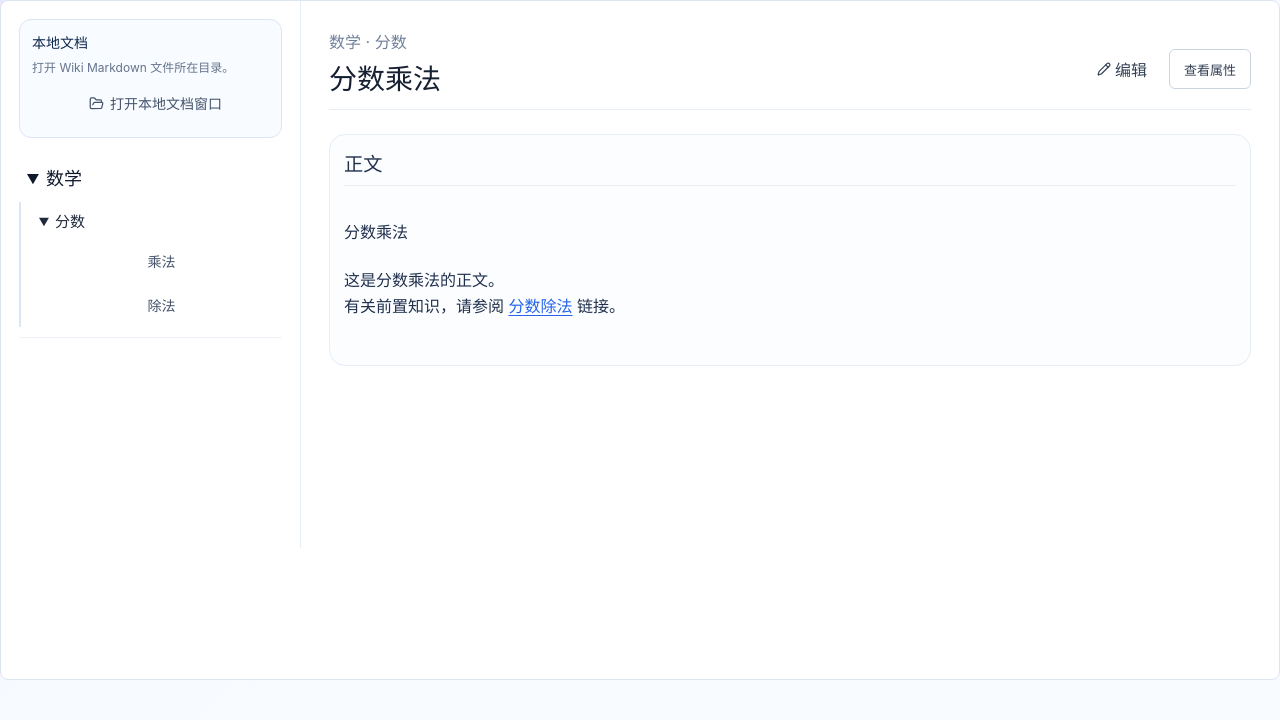
shows markdown content and toggles property drawer
Expected: the 1st heading "分数乘法" is shown, [329,57,441,97]
Expected: the text "这是分数乘法的正文。有关前置知识，请参阅 分数除法 链接。" is shown, [344,270,625,316]
Toggle drawer button should exist
What coordinates should you click on to do the following:
click the button "查看属性"
I would click on:
 (1210, 69)
Its box is [1169,49,1251,89].
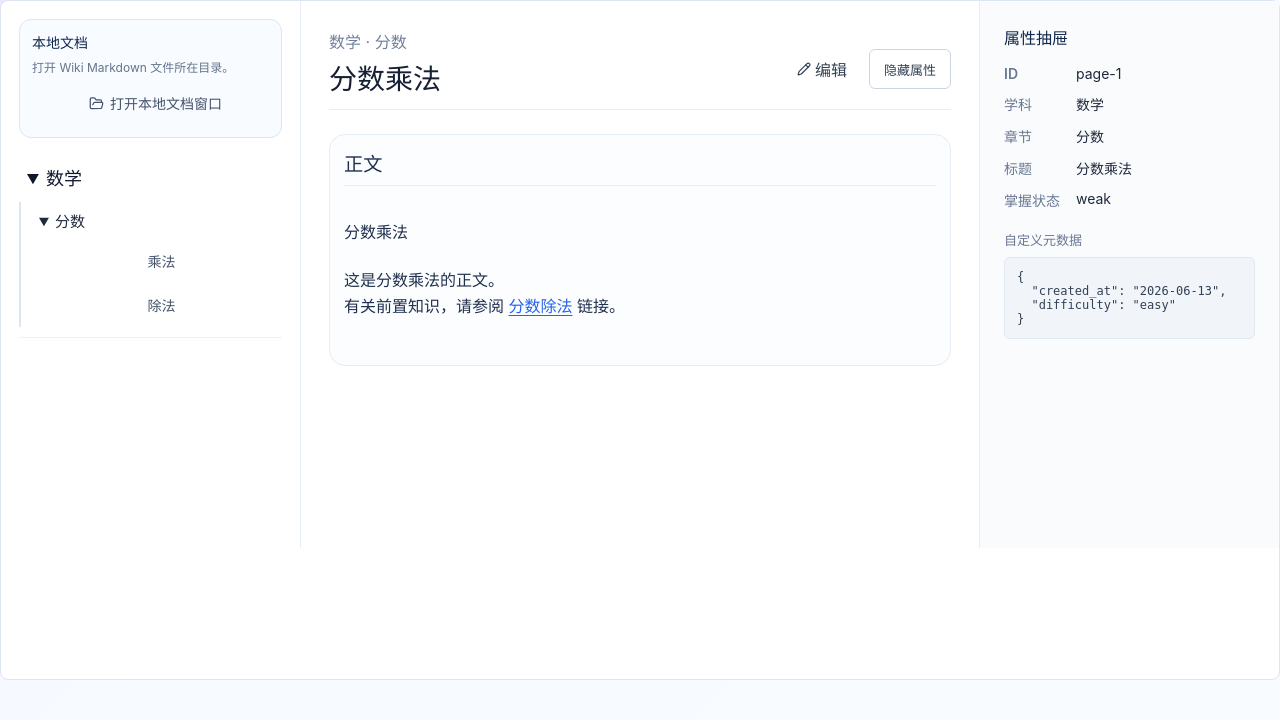
Now the heading "属性抽屉" is shown, box [1004,28,1068,48]
Toggle again to close
What coordinates should you click on to do the following:
click the button "隐藏属性"
I would click on:
 (910, 69)
Its box is [869,49,951,89].
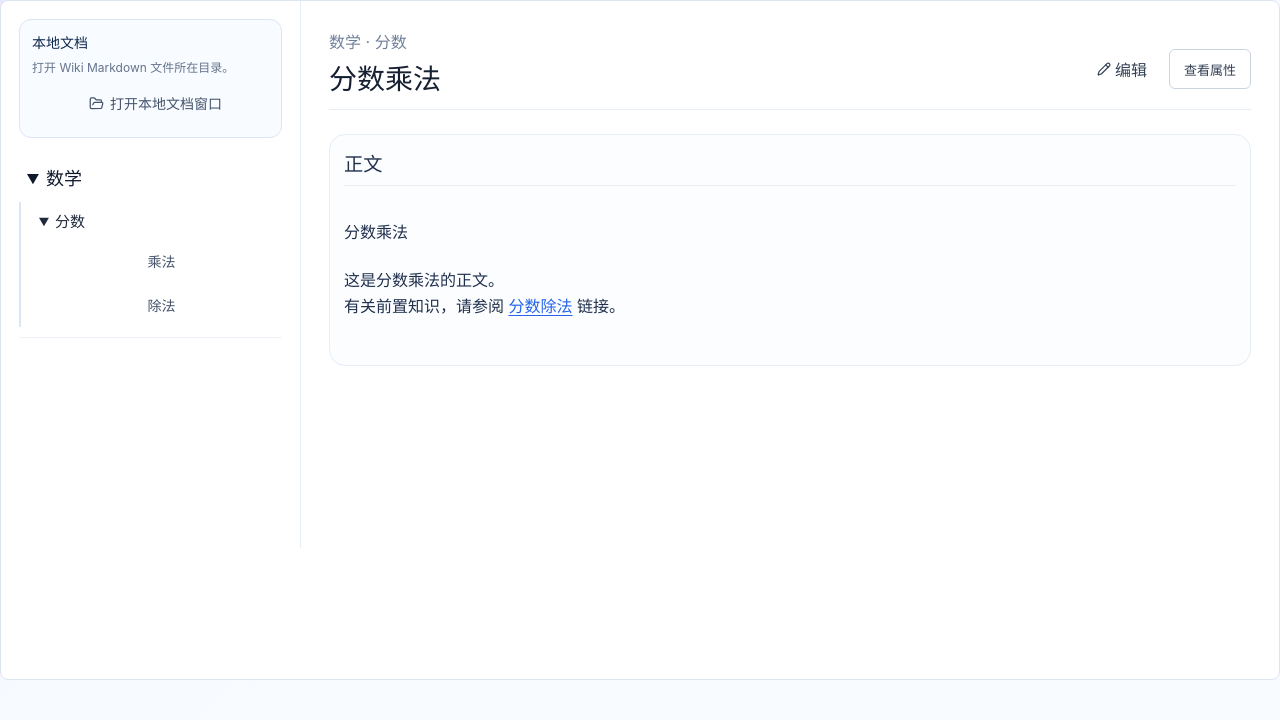
Now the heading "属性抽屉" is gone
